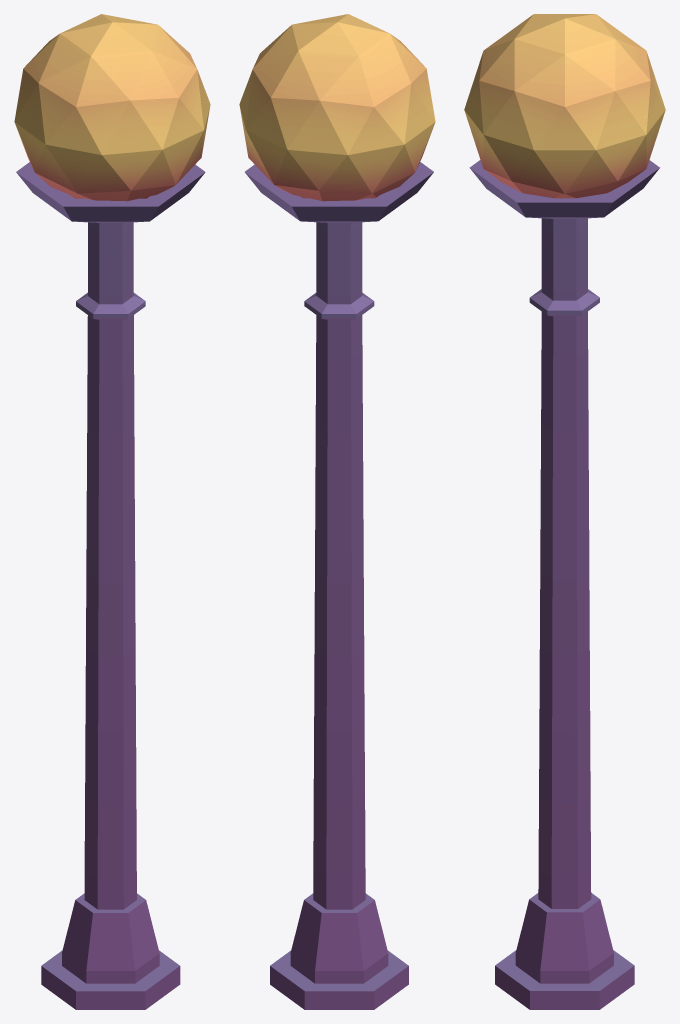
File: lantern003.obj
The picture shows the model from 3 angles, left to right: view 1: azimuth 30°, elevation 25°; view 2: azimuth 150°, elevation 25°; view 3: azimuth 270°, elevation 25°; orthographic projection.
Parts seen in each view (by area): view 1: Lantern.003; view 2: Lantern.003; view 3: Lantern.003.
Part boxes in pixels (x1,y1,x2,y2): Lantern.003: (14, 14, 210, 1009); Lantern.003: (239, 14, 435, 1009); Lantern.003: (464, 14, 665, 1009).
Size of the model in its own units: 2.26 by 12.55 by 2.37.
1 material, 1 textured.
